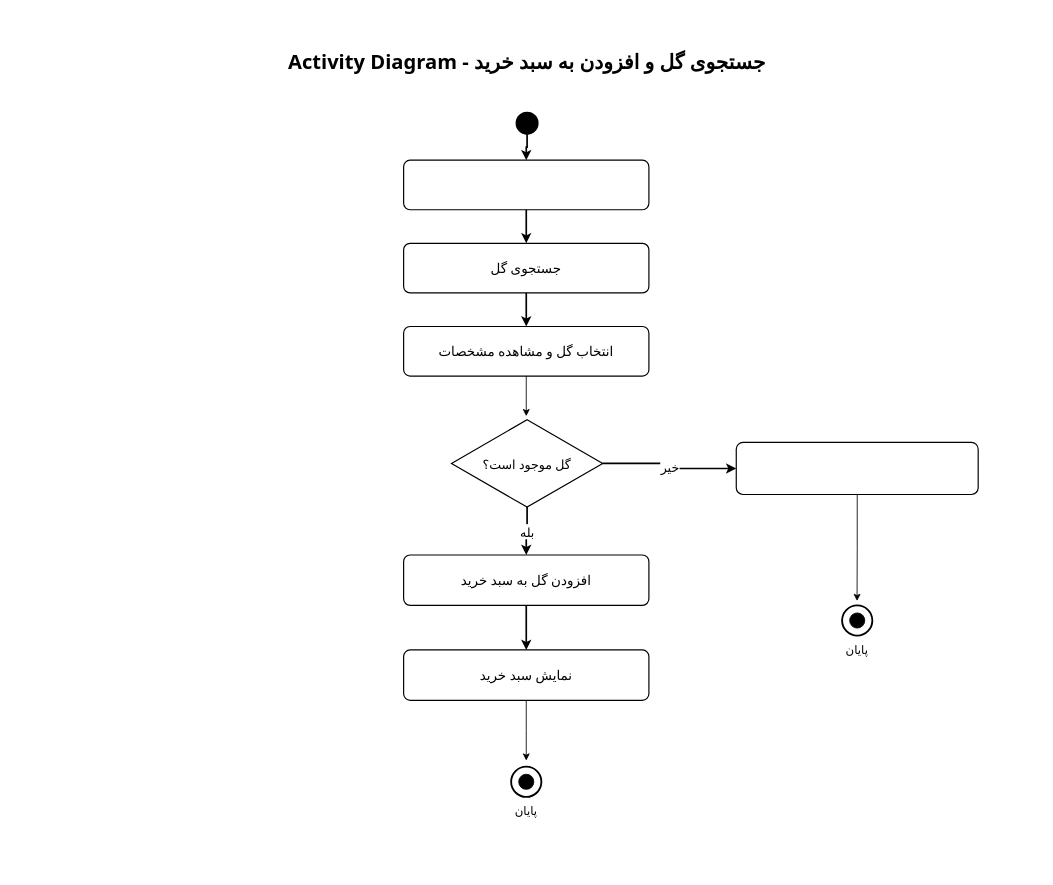
This 1053x885 diagram has some shape labels left out. Here are the shapes that lost their labels. From the top down, the box of each, then its label:
(403, 159, 649, 210): مشاهده محصولات و دسته بندی ها
(735, 441, 978, 495): نمایش پیام موجود نبودن گل
